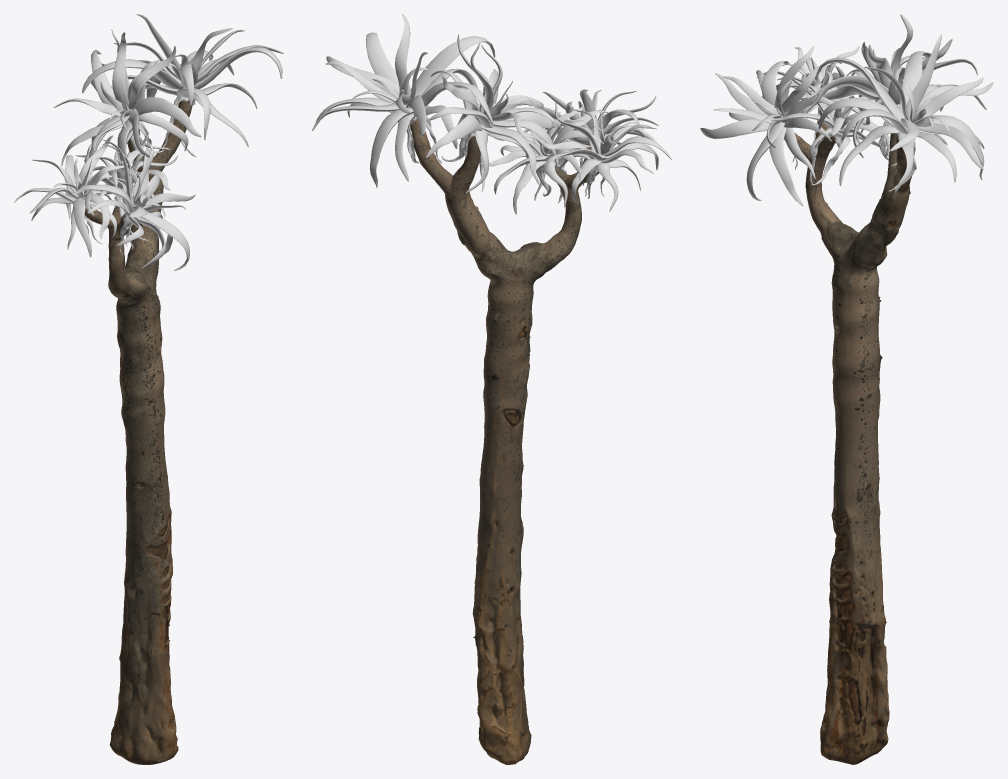
The model's file is quiver_tree_01_2k.fbx.
The picture shows the model from 3 angles, left to right: view 1: azimuth 30°, elevation 25°; view 2: azimuth 150°, elevation 25°; view 3: azimuth 270°, elevation 25°; orthographic projection. The views are drawn at different scales.
Visible parts, largest first — view 1: quiver_tree_01_LOD0; view 2: quiver_tree_01_LOD0; view 3: quiver_tree_01_LOD0.
Part boxes in pixels (bbox=[...]): quiver_tree_01_LOD0: bbox=[14, 14, 283, 764]; quiver_tree_01_LOD0: bbox=[312, 14, 671, 764]; quiver_tree_01_LOD0: bbox=[700, 14, 993, 764].
Bounding box in the file's own units: 118 × 272 × 96.85.
Materials: 2 (1 with a texture image).
